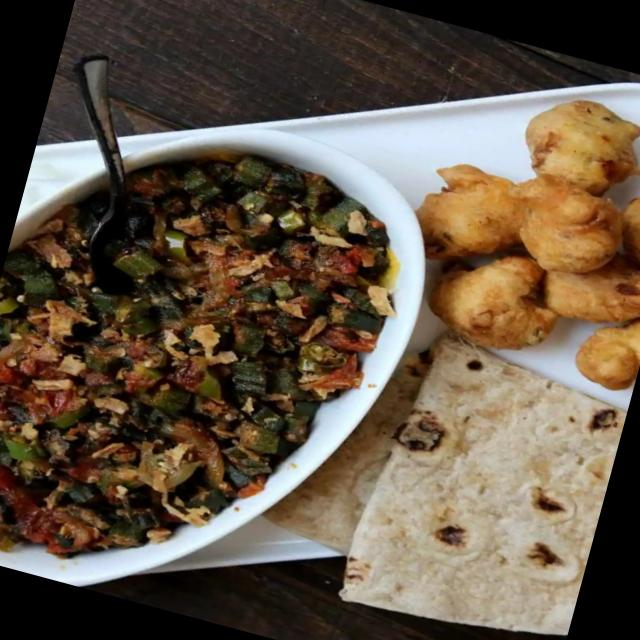BhindiMasala: (0, 99, 426, 634)
